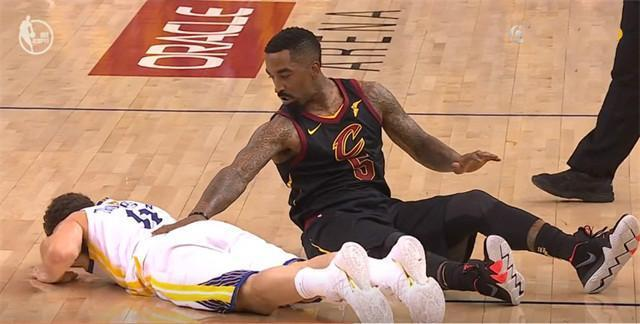bending: (191, 27, 640, 305)
down: (26, 186, 441, 324)
